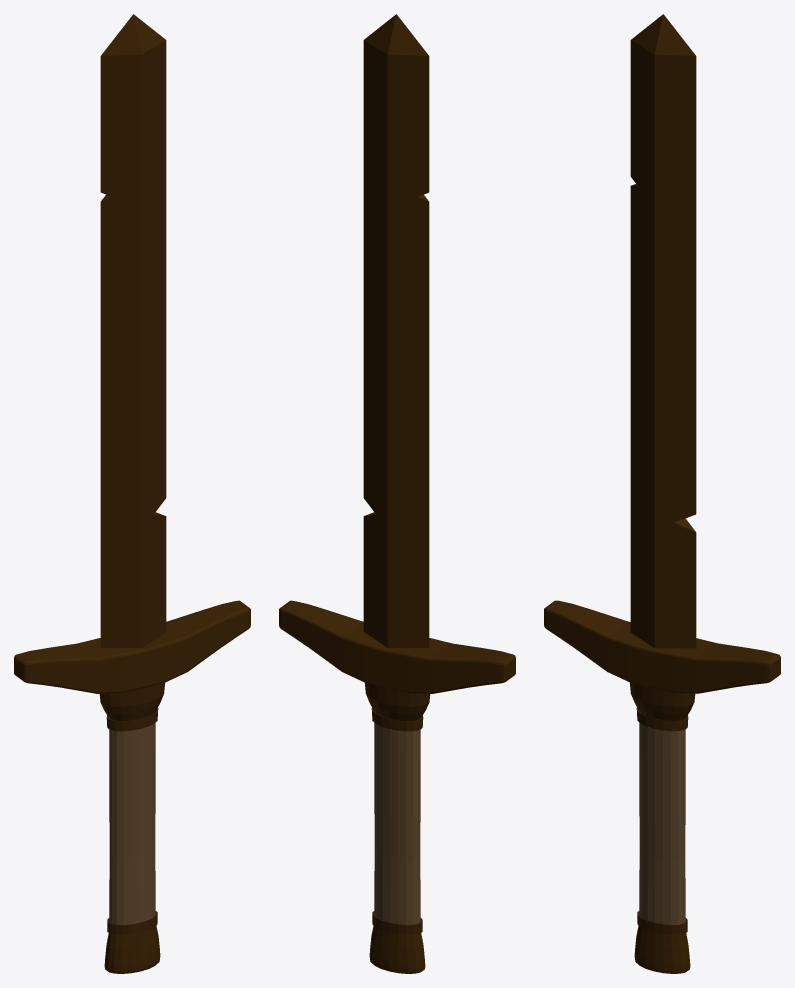
The model's file is Wooden Sword.fbx.
3 renders of one model, left to right at view 1: azimuth 30°, elevation 25°; view 2: azimuth 150°, elevation 25°; view 3: azimuth 330°, elevation 25°, orthographic.
Parts seen in each view (by area): view 1: Blade, Handle, Guard; view 2: Blade, Handle, Guard; view 3: Blade, Handle, Guard.
Part boxes in pixels (x1,y1,x2,y2): Blade: [100, 14, 166, 647]; Handle: [99, 682, 165, 973]; Guard: [14, 600, 250, 693]; Blade: [363, 14, 429, 647]; Handle: [364, 682, 430, 973]; Guard: [279, 600, 515, 693]; Blade: [630, 14, 696, 648]; Handle: [629, 682, 695, 973]; Guard: [544, 600, 780, 693].
Bounding box in the file's own units: 75.68 × 303 × 13.67.
